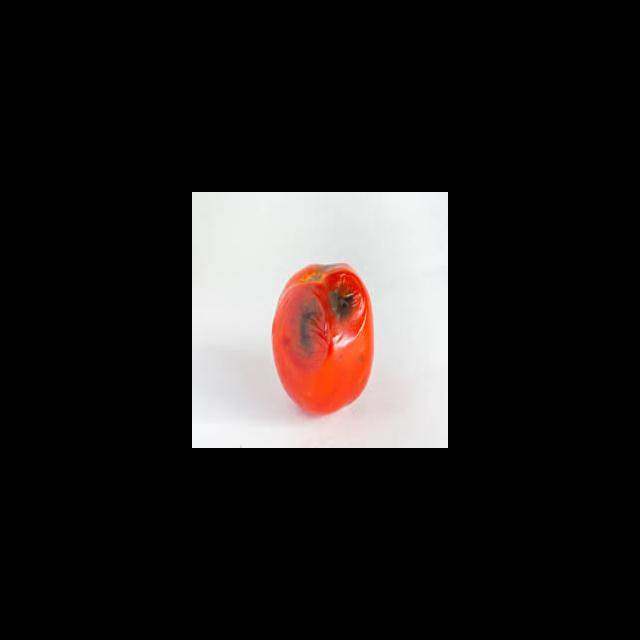tomato: (267, 257, 379, 422)
